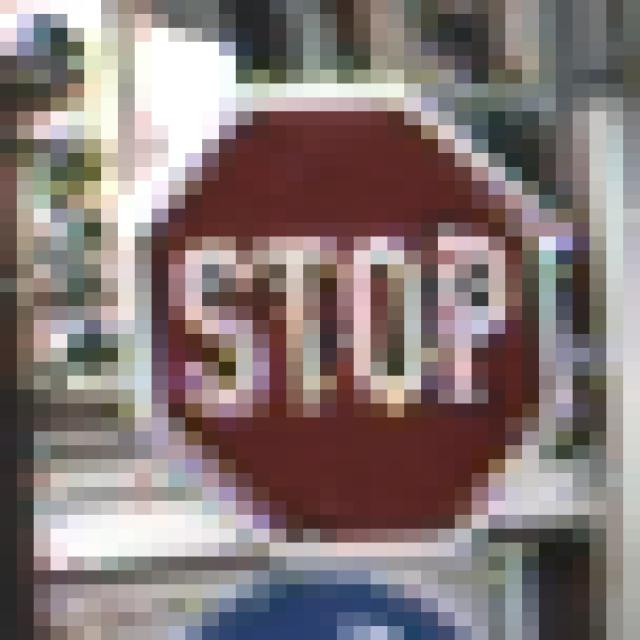STOP: (85, 71, 557, 572)
